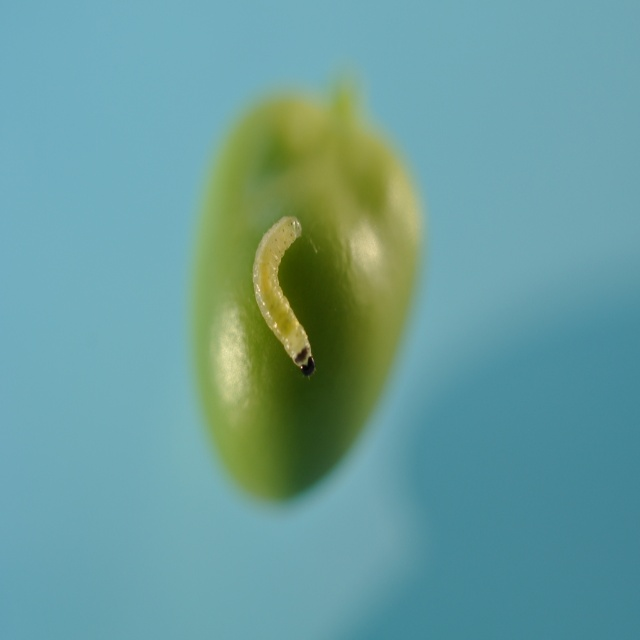Caterpillar: (252, 214, 315, 380)
